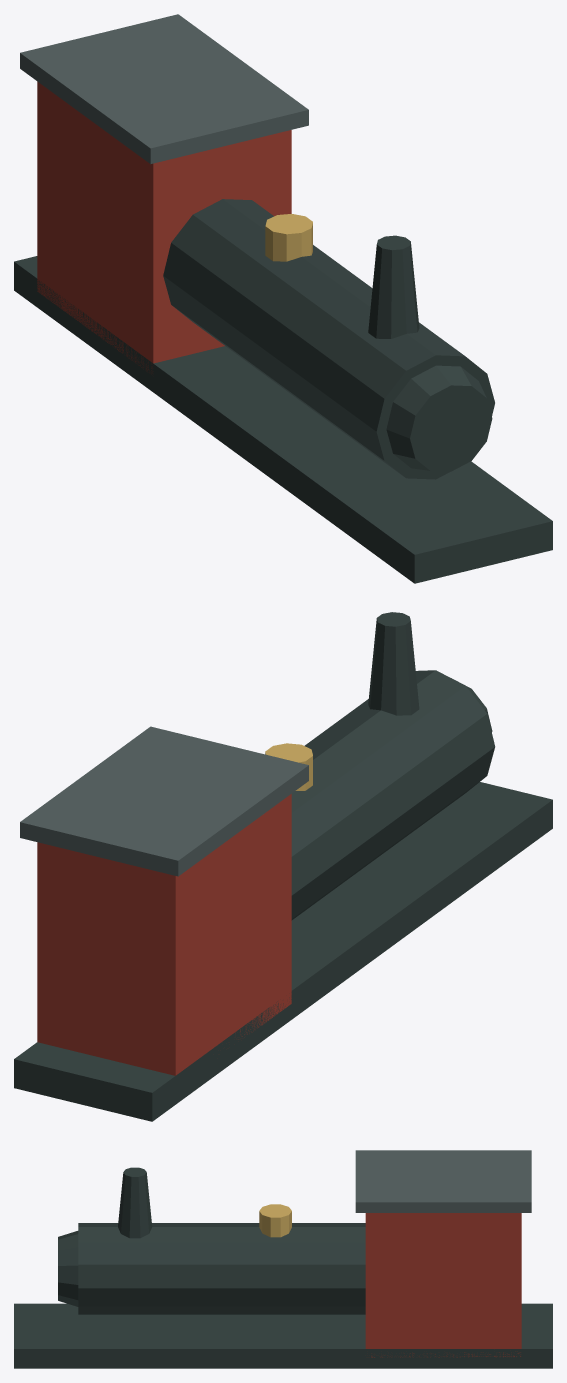
Rendered from nord-2-6-0_lod1.glb.
3 renders of one model, top to bottom at view 1: azimuth 30°, elevation 25°; view 2: azimuth 150°, elevation 25°; view 3: azimuth 270°, elevation 25°, orthographic. The views are drawn at different scales.
Parts seen in each view (by area): view 1: RF_Loco_Chassis, RF_Loco_Cab, RF_Loco_Boiler, RF_Loco_Roof, RF_Loco_Smokebox, RF_Loco_Stack, RF_Loco_Dome; view 2: RF_Loco_Cab, RF_Loco_Chassis, RF_Loco_Boiler, RF_Loco_Roof, RF_Loco_Stack, RF_Loco_Dome; view 3: RF_Loco_Boiler, RF_Loco_Chassis, RF_Loco_Cab, RF_Loco_Roof, RF_Loco_Stack, RF_Loco_Smokebox, RF_Loco_Dome.
Part boxes in pixels (x1=…): RF_Loco_Chassis: x1=14, y1=256, x2=552, y2=583; RF_Loco_Cab: x1=37, y1=81, x2=291, y2=374; RF_Loco_Boiler: x1=163, y1=199, x2=494, y2=479; RF_Loco_Roof: x1=20, y1=14, x2=308, y2=164; RF_Loco_Smokebox: x1=386, y1=365, x2=492, y2=471; RF_Loco_Stack: x1=368, y1=235, x2=419, y2=338; RF_Loco_Dome: x1=265, y1=213, x2=312, y2=261; RF_Loco_Cab: x1=37, y1=794, x2=291, y2=1075; RF_Loco_Chassis: x1=14, y1=782, x2=552, y2=1121; RF_Loco_Boiler: x1=291, y1=670, x2=495, y2=920; RF_Loco_Roof: x1=20, y1=726, x2=308, y2=876; RF_Loco_Stack: x1=368, y1=612, x2=419, y2=715; RF_Loco_Dome: x1=265, y1=743, x2=312, y2=790; RF_Loco_Boiler: x1=78, y1=1223, x2=365, y2=1314; RF_Loco_Chassis: x1=14, y1=1303, x2=552, y2=1368; RF_Loco_Cab: x1=365, y1=1213, x2=521, y2=1357; RF_Loco_Roof: x1=355, y1=1150, x2=531, y2=1212; RF_Loco_Stack: x1=118, y1=1167, x2=152, y2=1238; RF_Loco_Smokebox: x1=58, y1=1231, x2=78, y2=1306; RF_Loco_Dome: x1=259, y1=1204, x2=291, y2=1237.
Bounding box in the file's own units: 3.15 × 4.9 × 13.8.
